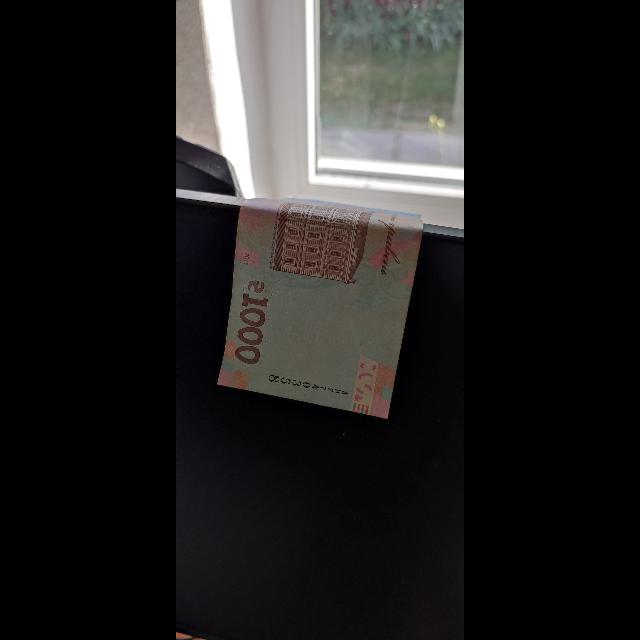1000uah: (221, 205, 425, 418)
